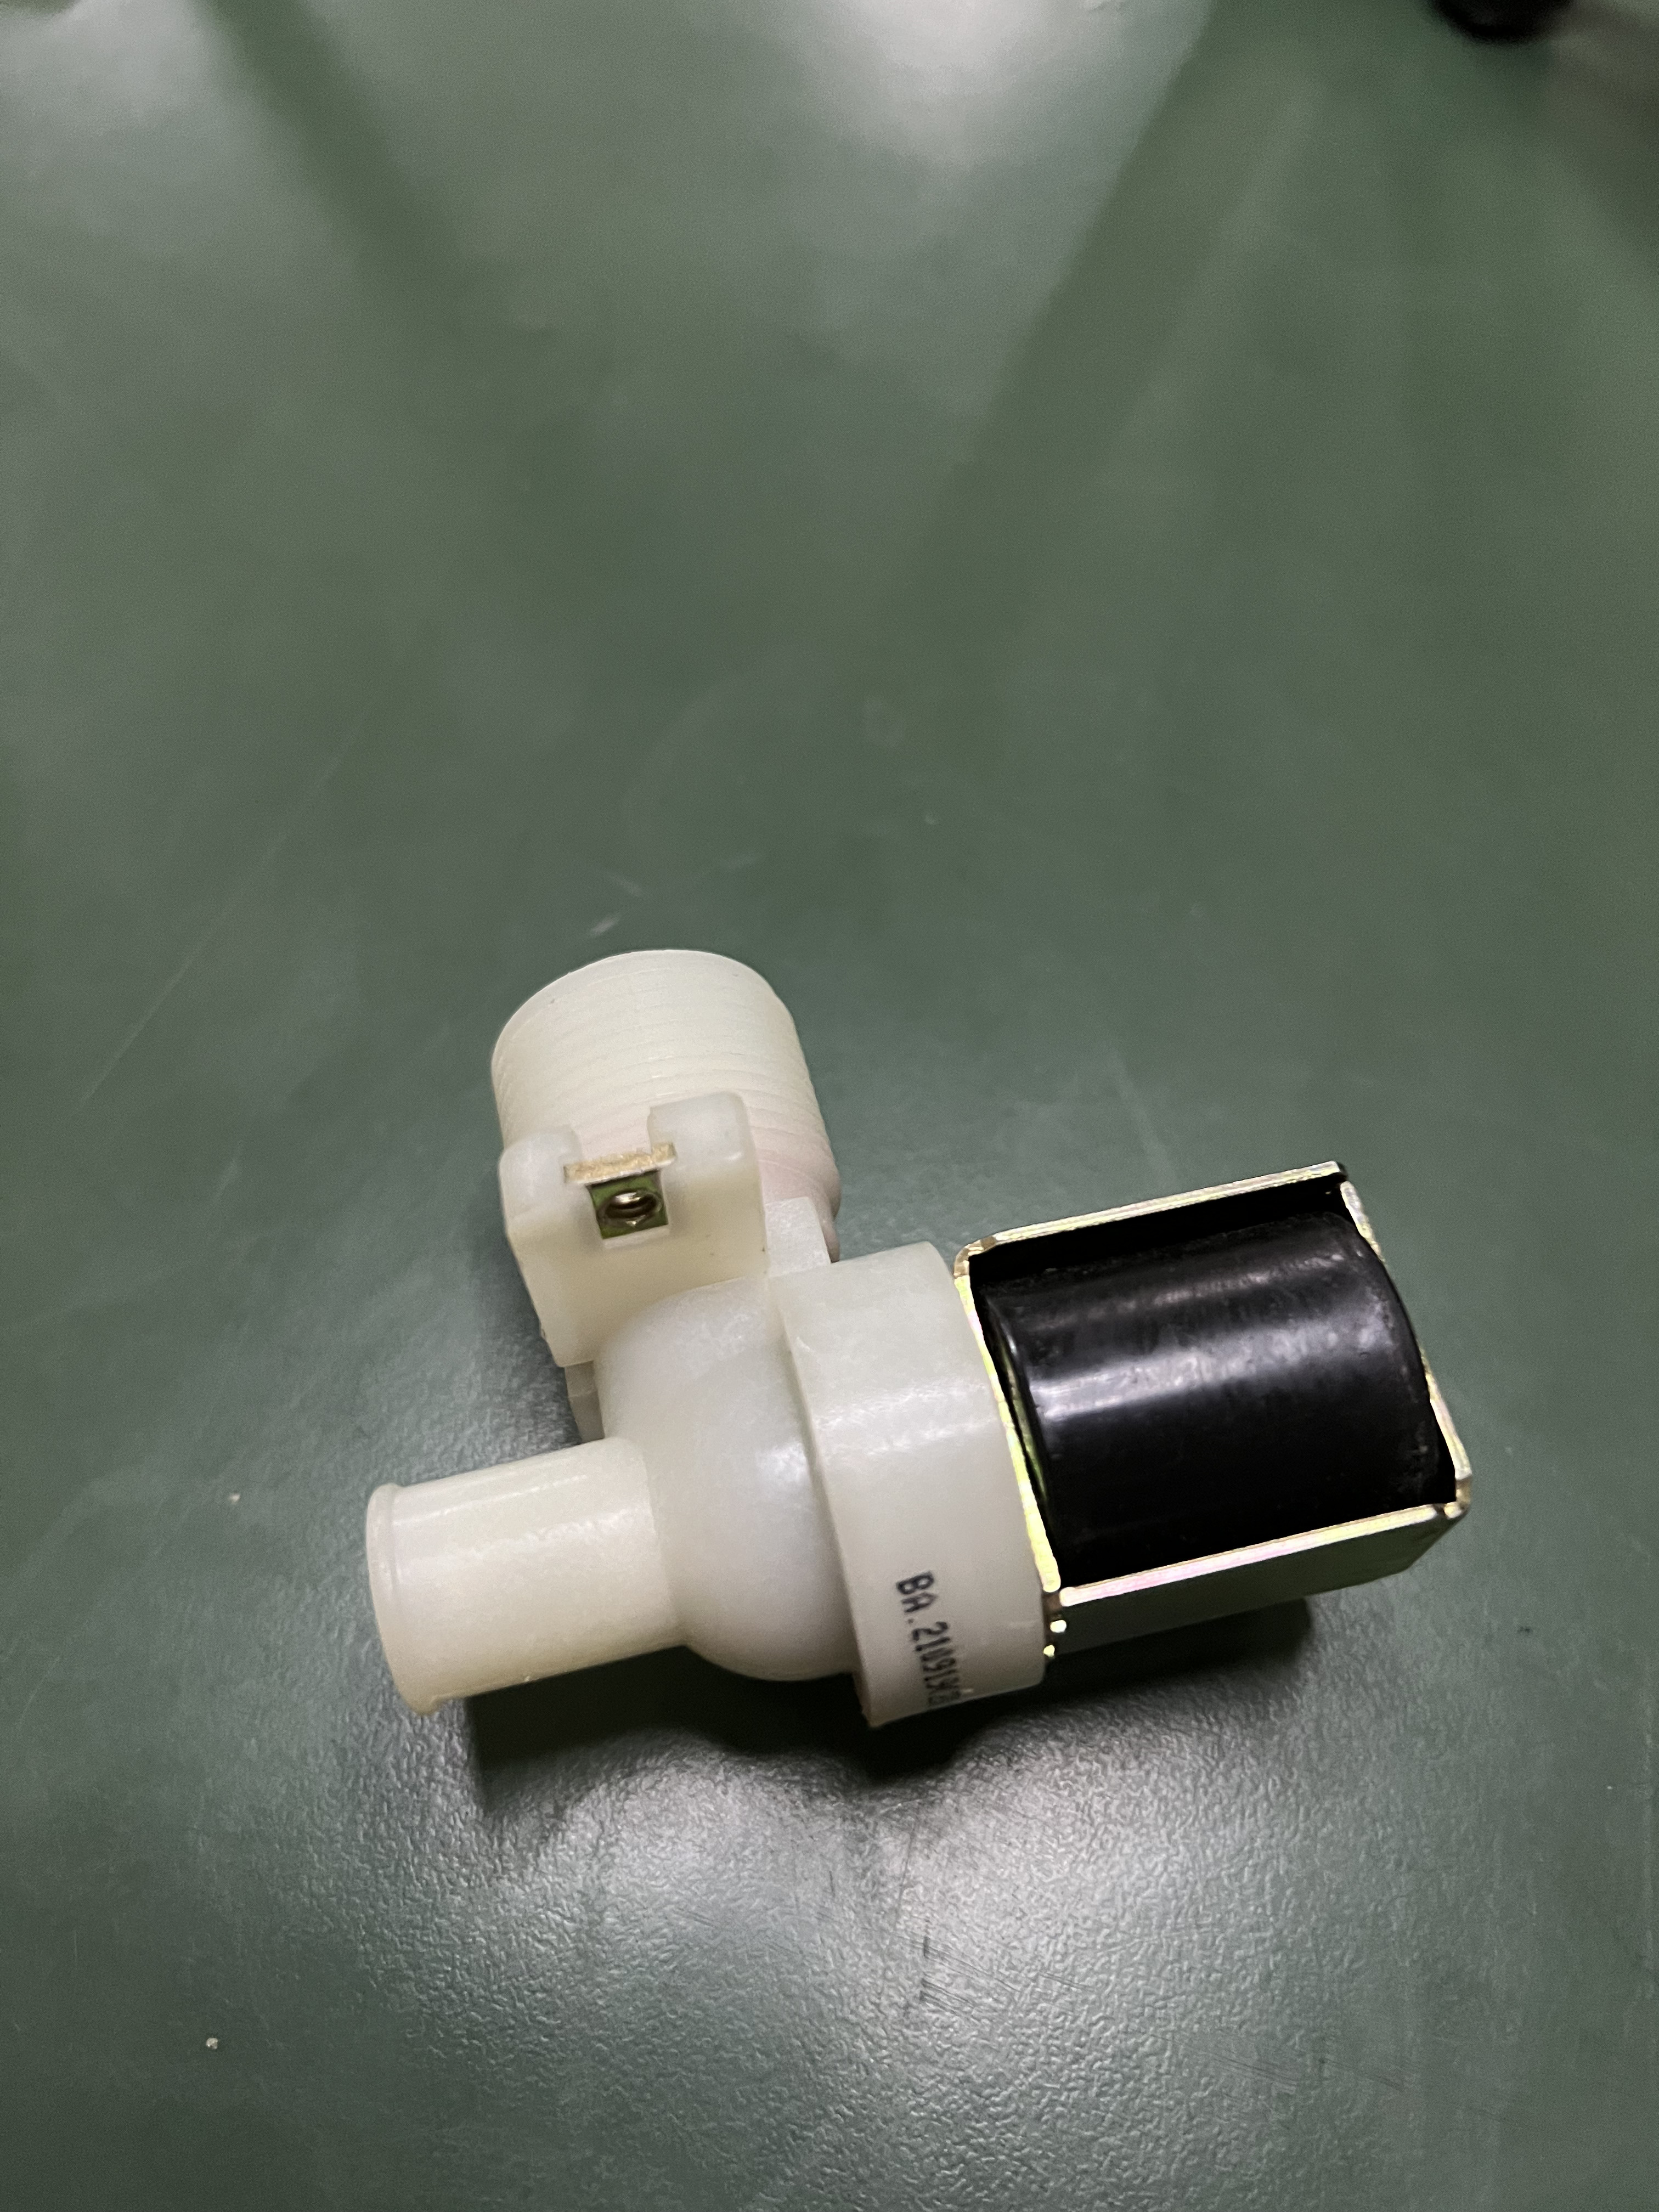godrej_inlet_valves: (328, 920, 1500, 1757)
